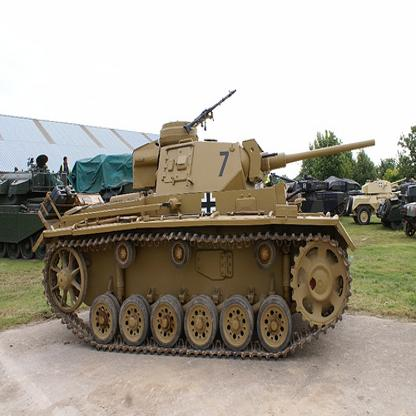Tank: (39, 117, 384, 360)
